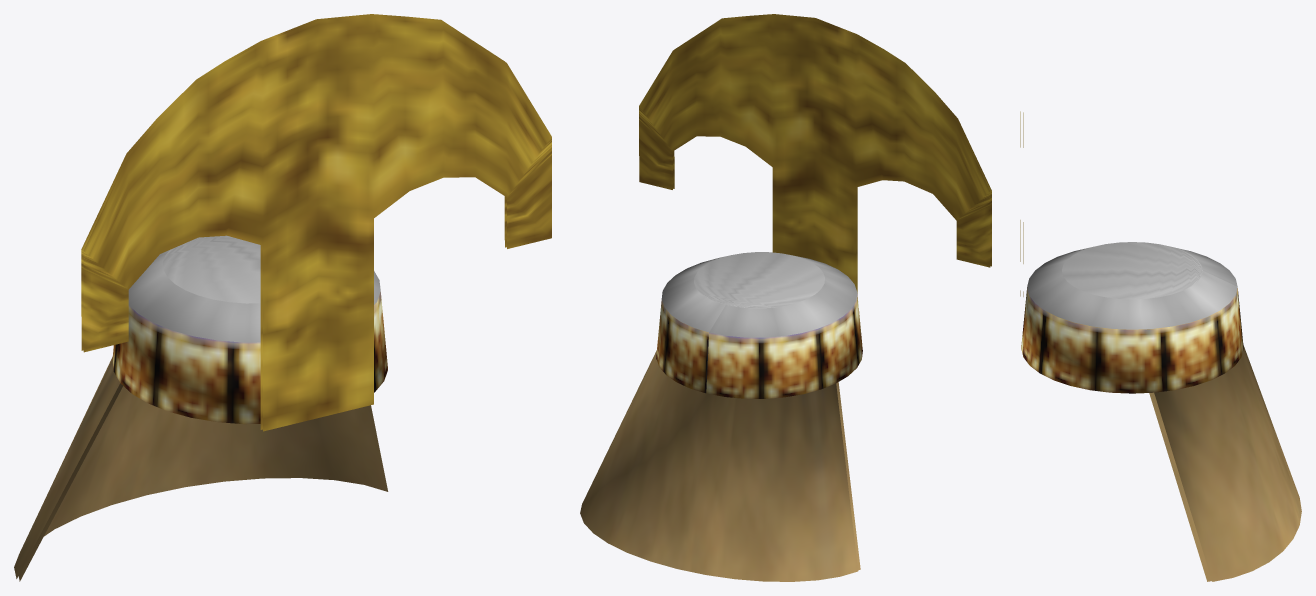
Rendered from helmet_moch_champ_axe_1.dae.
The picture shows the model from 3 angles, left to right: view 1: azimuth 30°, elevation 25°; view 2: azimuth 150°, elevation 25°; view 3: azimuth 270°, elevation 25°; orthographic projection. The views are drawn at different scales.
Parts seen in each view (by area): view 1: helmet_moch_champ_axe_1; view 2: helmet_moch_champ_axe_1; view 3: helmet_moch_champ_axe_1.
Part boxes in pixels (left/top/right/bottom): helmet_moch_champ_axe_1: left=14, top=14, right=551, bottom=581; helmet_moch_champ_axe_1: left=580, top=14, right=991, bottom=581; helmet_moch_champ_axe_1: left=1020, top=111, right=1301, bottom=581.
Size of the model in its own units: 0.996 by 0.6621 by 1.23.
